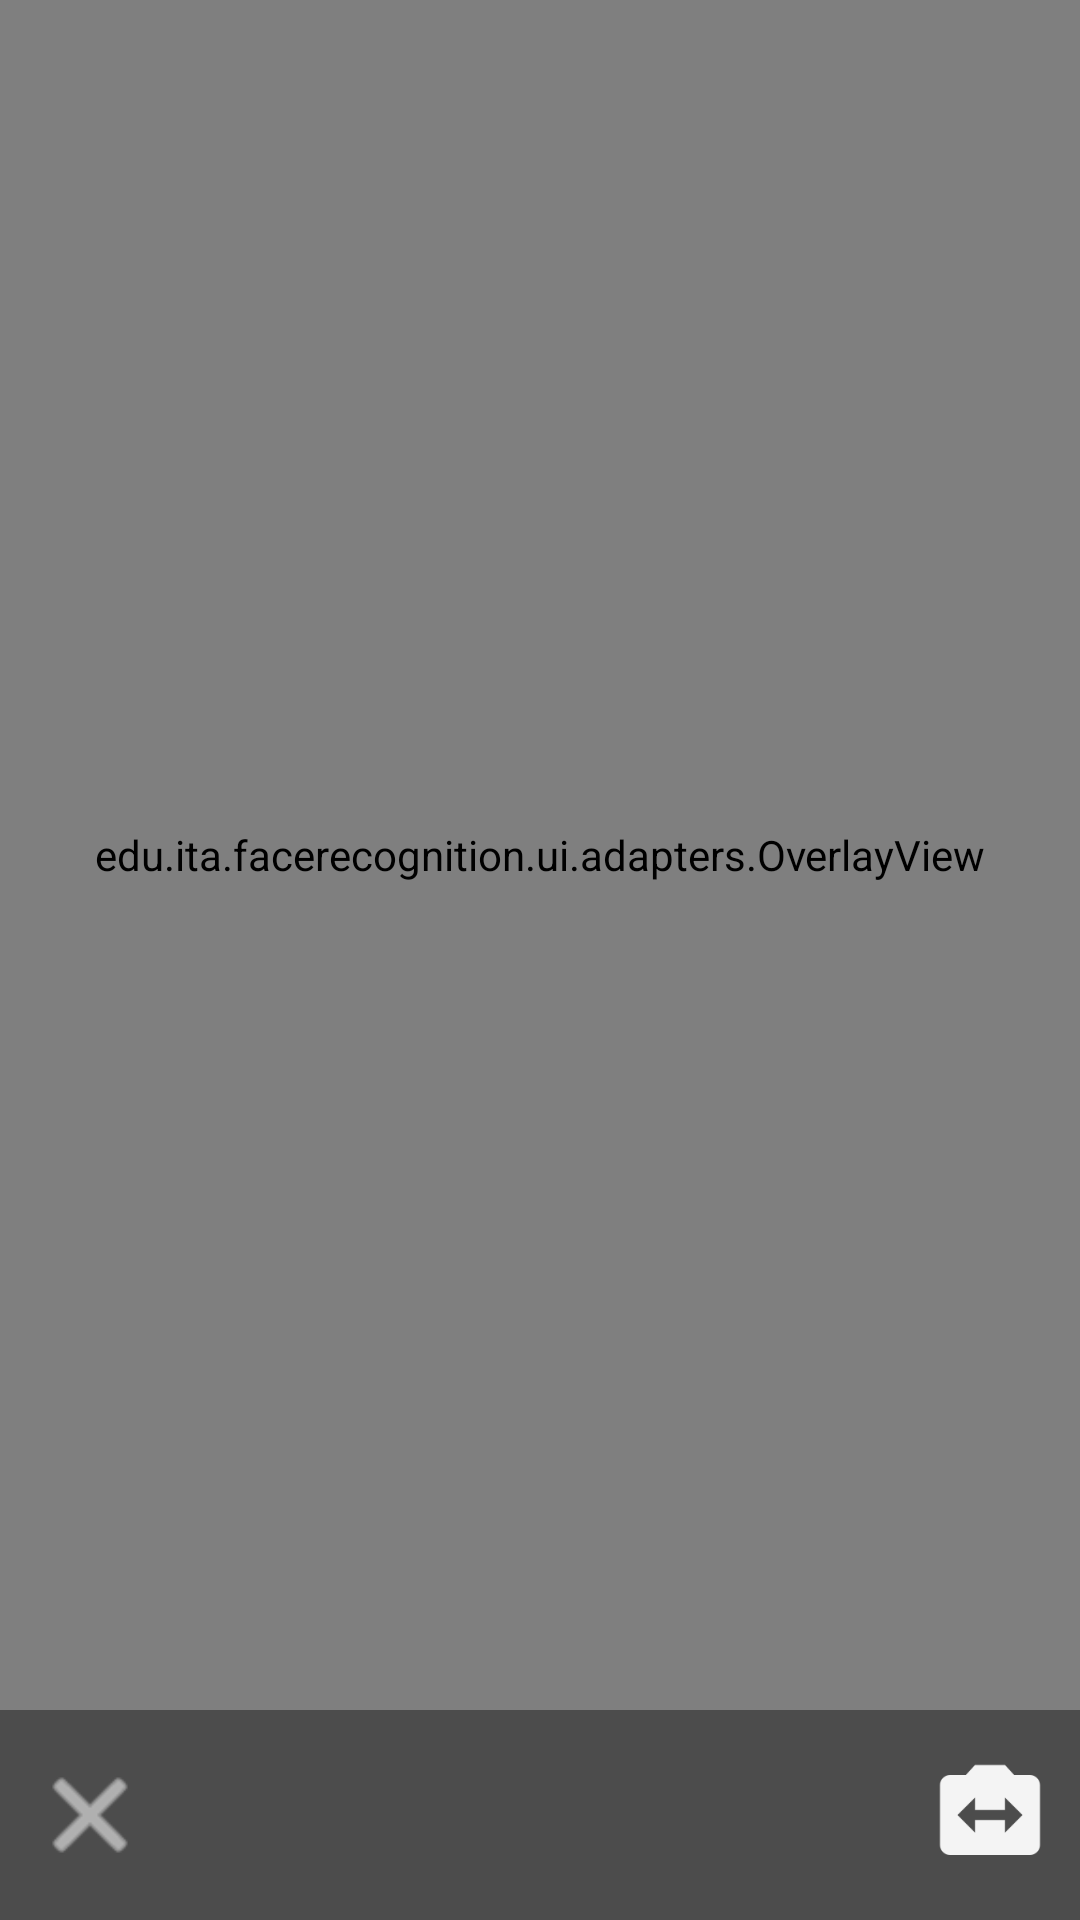

Named icons in this screenshot (1080w x 1920h) and their bounding boxes, (x1, y1, x2, y2):
close clear cancel: (53, 1778, 127, 1852)
switch: (939, 1764, 1041, 1855)
